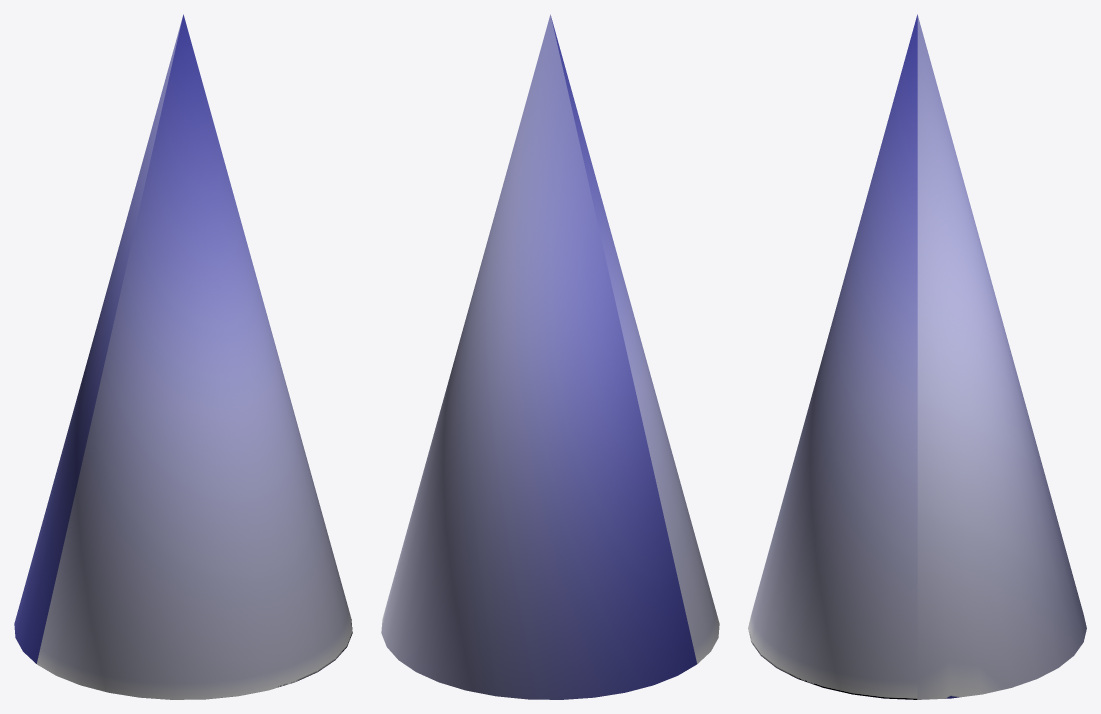
File: AbductCone.fbx
3 renders of one model, left to right at view 1: azimuth 30°, elevation 25°; view 2: azimuth 150°, elevation 25°; view 3: azimuth 270°, elevation 25°, orthographic.
Parts seen in each view (by area): view 1: Cone; view 2: Cone; view 3: Cone.
Boxes of the visible parts, <box> form: Cone: <box>14,14,352,699</box>; Cone: <box>381,14,719,699</box>; Cone: <box>748,14,1086,699</box>.
Size of the model in its own units: 200 by 400 by 200.
